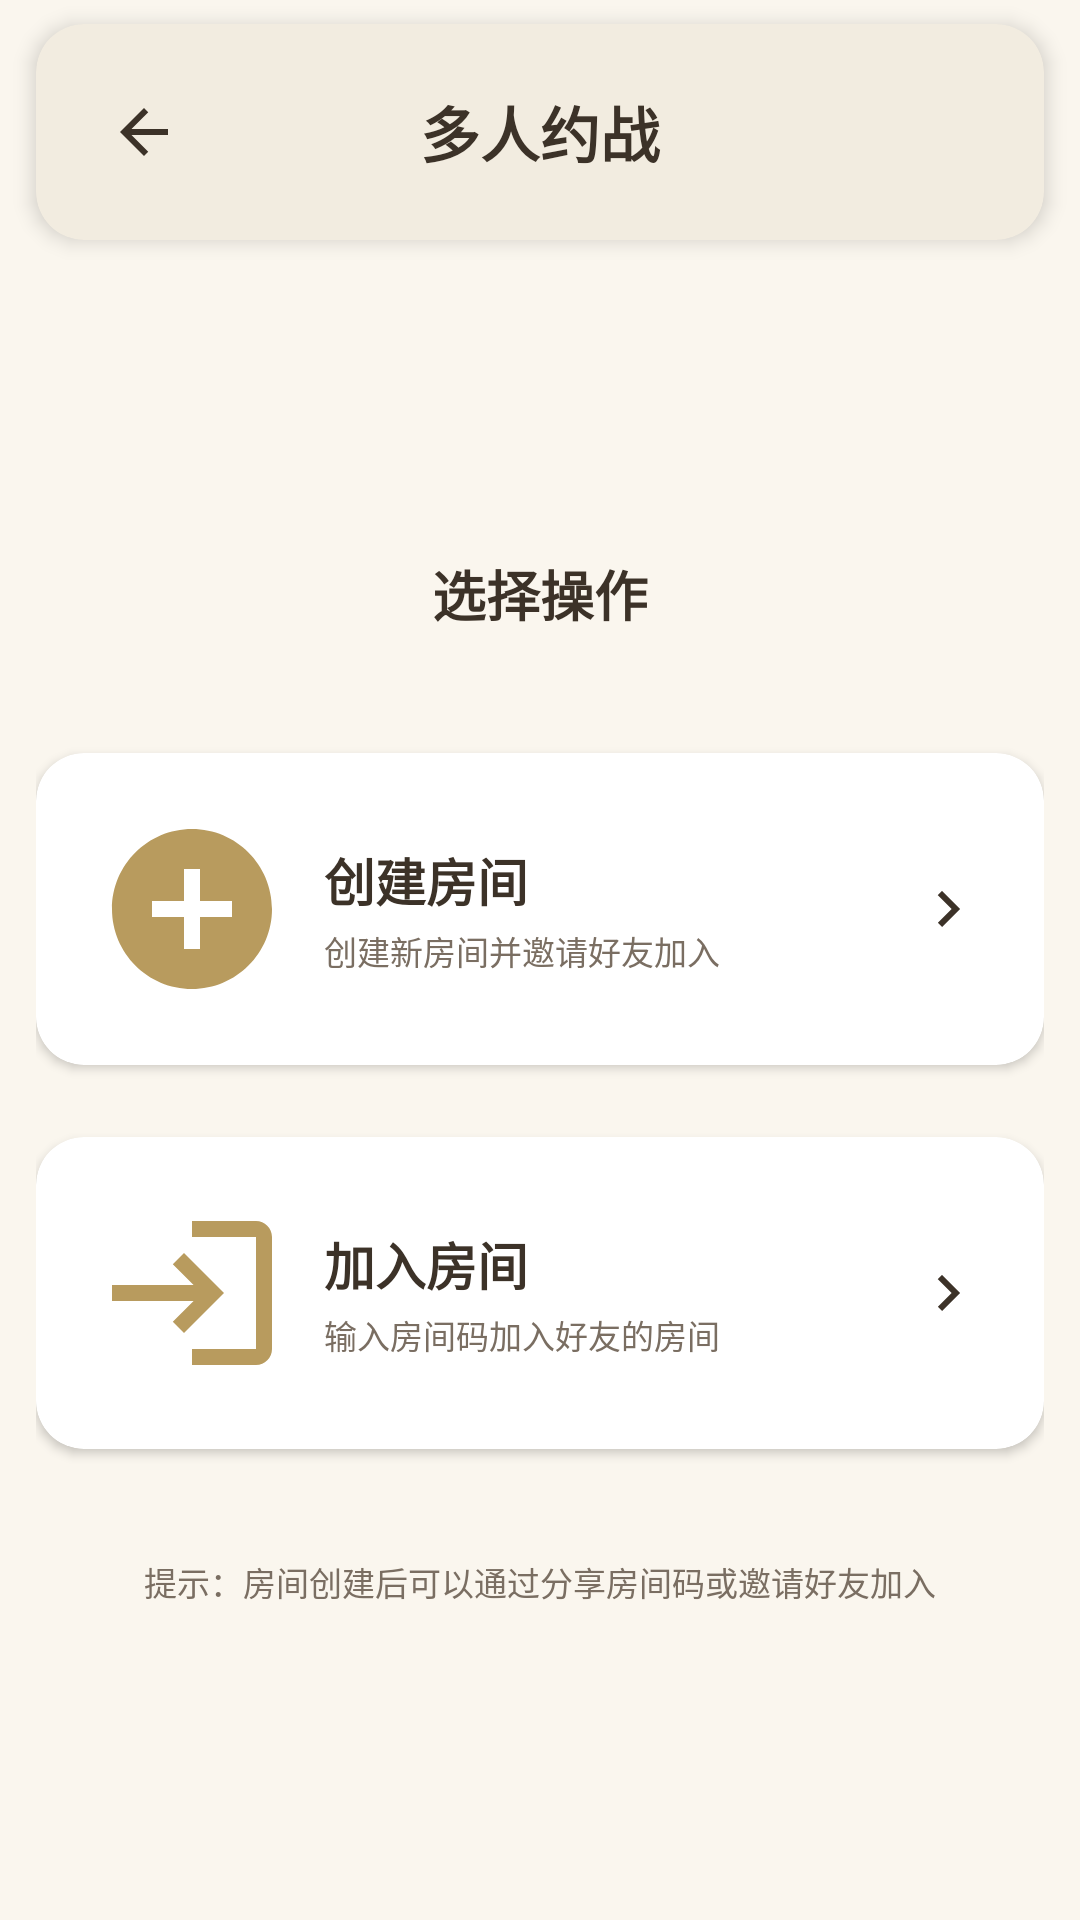

Point at icon controls on the screen. Image size 1080*1920, points as [x,y].
返回: [144,132]
